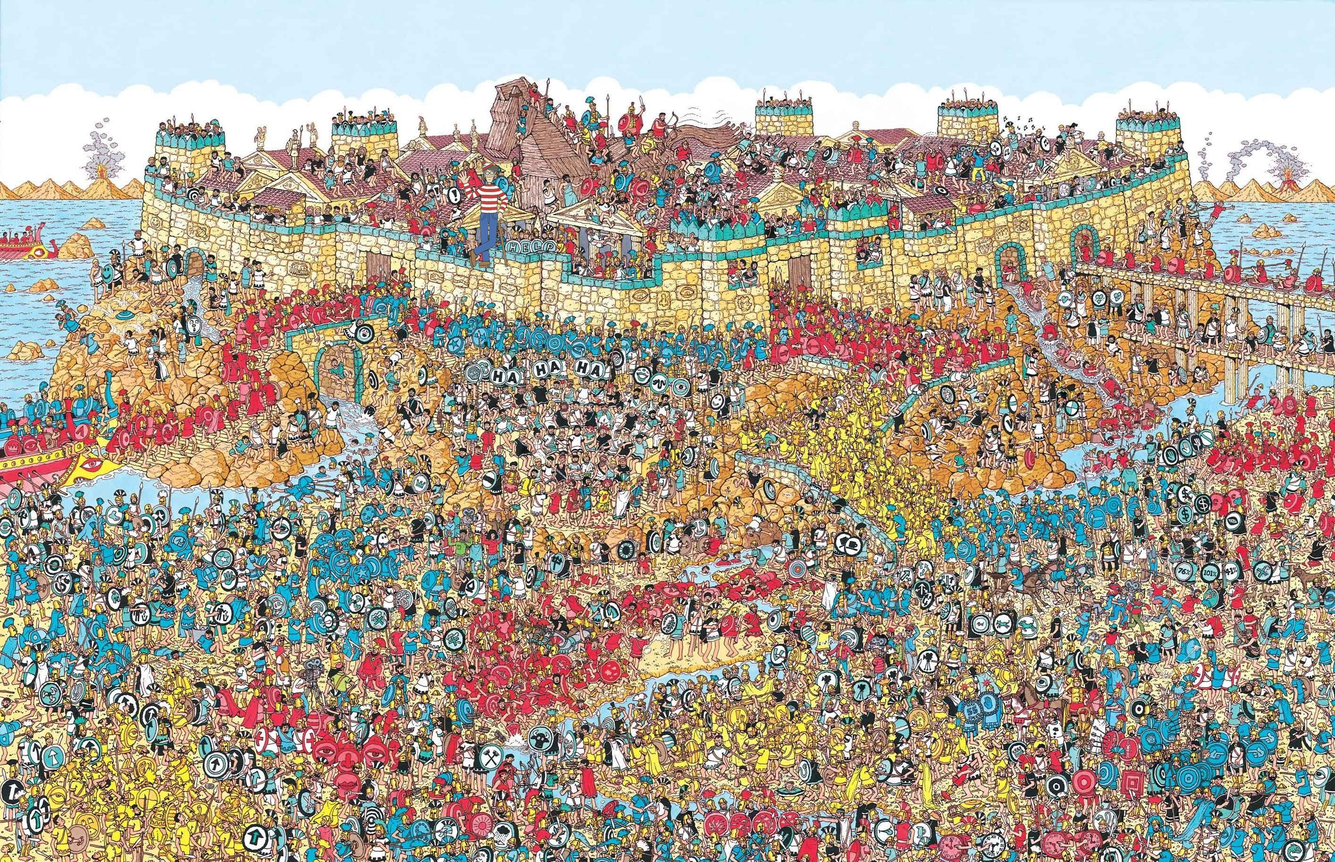waldo: (457, 160, 509, 268)
